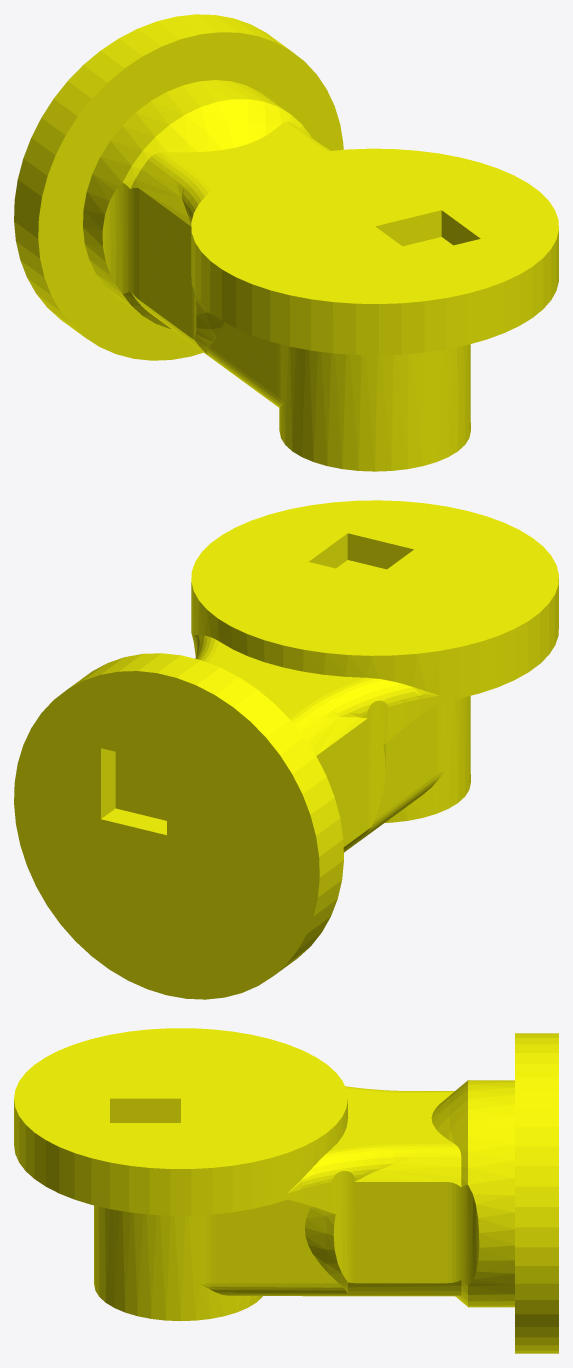
3 views of the same model, one above another, from view 1: azimuth 30°, elevation 25°; view 2: azimuth 150°, elevation 25°; view 3: azimuth 270°, elevation 25° (orthographic). The views are drawn at different scales.
Parts seen in each view (by area): view 1: node; view 2: node; view 3: node.
Part boxes in pixels (bbox=[...]): node: bbox=[14, 14, 558, 471]; node: bbox=[14, 500, 558, 999]; node: bbox=[14, 1028, 558, 1353].
Bounding box in the file's own units: 250 × 240 × 408.
